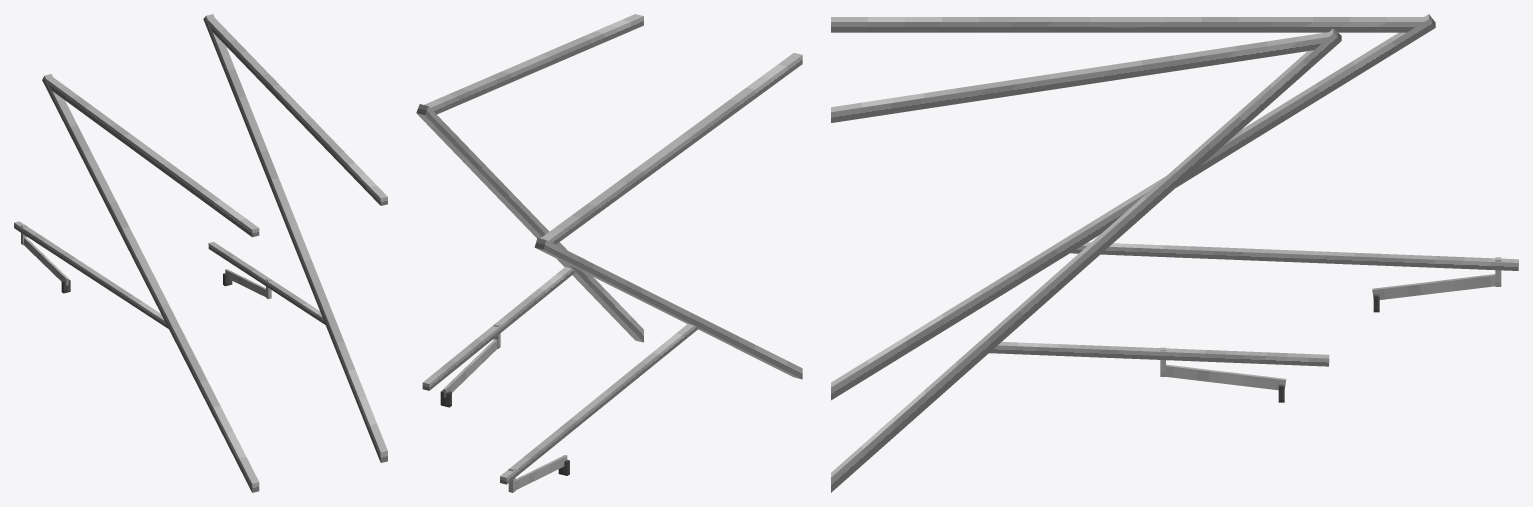
The model's file is cantilever_center_12px.obj.
3 views of the same model, side by side, from view 1: azimuth 30°, elevation 25°; view 2: azimuth 150°, elevation 25°; view 3: azimuth 270°, elevation 25° (orthographic). The views are drawn at different scales.
Parts seen in each view (by area): view 1: 709fb531-3abb-492e-be09-5d373f454b1e, 3c2db7ff-21e5-4d41-9bd9-c90d75455744, f3ef3c95-b42c-4c41-878a-9b0fedc98a7a, dff67cfa-1c80-4ed0-873d-48d7d3e952df, b3bab5f1-cedf-4360-a382-ba798c287761, af41fd82-8658-4b25-83d3-095e9cc4449d, 7ff788ee-aba0-463f-af53-027905337964; view 2: f3ef3c95-b42c-4c41-878a-9b0fedc98a7a, 709fb531-3abb-492e-be09-5d373f454b1e, 3c2db7ff-21e5-4d41-9bd9-c90d75455744, dff67cfa-1c80-4ed0-873d-48d7d3e952df, b3bab5f1-cedf-4360-a382-ba798c287761, af41fd82-8658-4b25-83d3-095e9cc4449d, ece2084d-8b5f-4012-bf9c-b43e2a00172f, 7ff788ee-aba0-463f-af53-027905337964; view 3: 709fb531-3abb-492e-be09-5d373f454b1e, 3c2db7ff-21e5-4d41-9bd9-c90d75455744, f3ef3c95-b42c-4c41-878a-9b0fedc98a7a, dff67cfa-1c80-4ed0-873d-48d7d3e952df, b3bab5f1-cedf-4360-a382-ba798c287761, af41fd82-8658-4b25-83d3-095e9cc4449d, 7ff788ee-aba0-463f-af53-027905337964, ece2084d-8b5f-4012-bf9c-b43e2a00172f.
Part boxes in pixels (x1,y1,x2,y2): 709fb531-3abb-492e-be09-5d373f454b1e: [203, 14, 387, 462]; 3c2db7ff-21e5-4d41-9bd9-c90d75455744: [42, 74, 259, 492]; f3ef3c95-b42c-4c41-878a-9b0fedc98a7a: [46, 77, 259, 237]; dff67cfa-1c80-4ed0-873d-48d7d3e952df: [207, 17, 387, 205]; b3bab5f1-cedf-4360-a382-ba798c287761: [14, 221, 168, 328]; af41fd82-8658-4b25-83d3-095e9cc4449d: [208, 242, 325, 324]; 7ff788ee-aba0-463f-af53-027905337964: [24, 237, 68, 285]; f3ef3c95-b42c-4c41-878a-9b0fedc98a7a: [540, 53, 802, 244]; 709fb531-3abb-492e-be09-5d373f454b1e: [416, 104, 643, 342]; 3c2db7ff-21e5-4d41-9bd9-c90d75455744: [534, 238, 802, 379]; dff67cfa-1c80-4ed0-873d-48d7d3e952df: [424, 14, 643, 114]; b3bab5f1-cedf-4360-a382-ba798c287761: [500, 324, 699, 484]; af41fd82-8658-4b25-83d3-095e9cc4449d: [422, 267, 575, 390]; ece2084d-8b5f-4012-bf9c-b43e2a00172f: [443, 339, 497, 397]; 7ff788ee-aba0-463f-af53-027905337964: [515, 455, 567, 489]; 709fb531-3abb-492e-be09-5d373f454b1e: [831, 28, 1341, 492]; 3c2db7ff-21e5-4d41-9bd9-c90d75455744: [831, 14, 1435, 400]; f3ef3c95-b42c-4c41-878a-9b0fedc98a7a: [831, 17, 1423, 32]; dff67cfa-1c80-4ed0-873d-48d7d3e952df: [831, 32, 1329, 122]; b3bab5f1-cedf-4360-a382-ba798c287761: [1070, 242, 1518, 270]; af41fd82-8658-4b25-83d3-095e9cc4449d: [989, 342, 1329, 366]; 7ff788ee-aba0-463f-af53-027905337964: [1372, 274, 1495, 299]; ece2084d-8b5f-4012-bf9c-b43e2a00172f: [1166, 364, 1286, 390].
Bounding box in the file's own units: 1.19 × 2.67 × 3.62.
